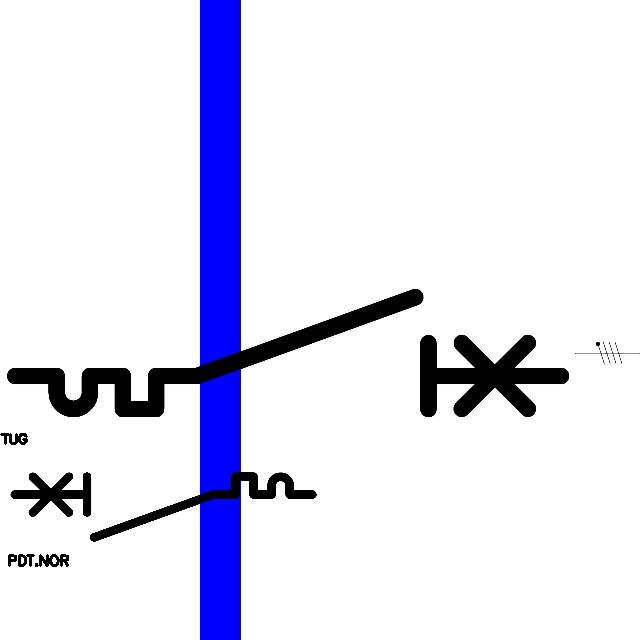interruptor_termomagnetico: (1, 283, 575, 423), (7, 469, 320, 545)
